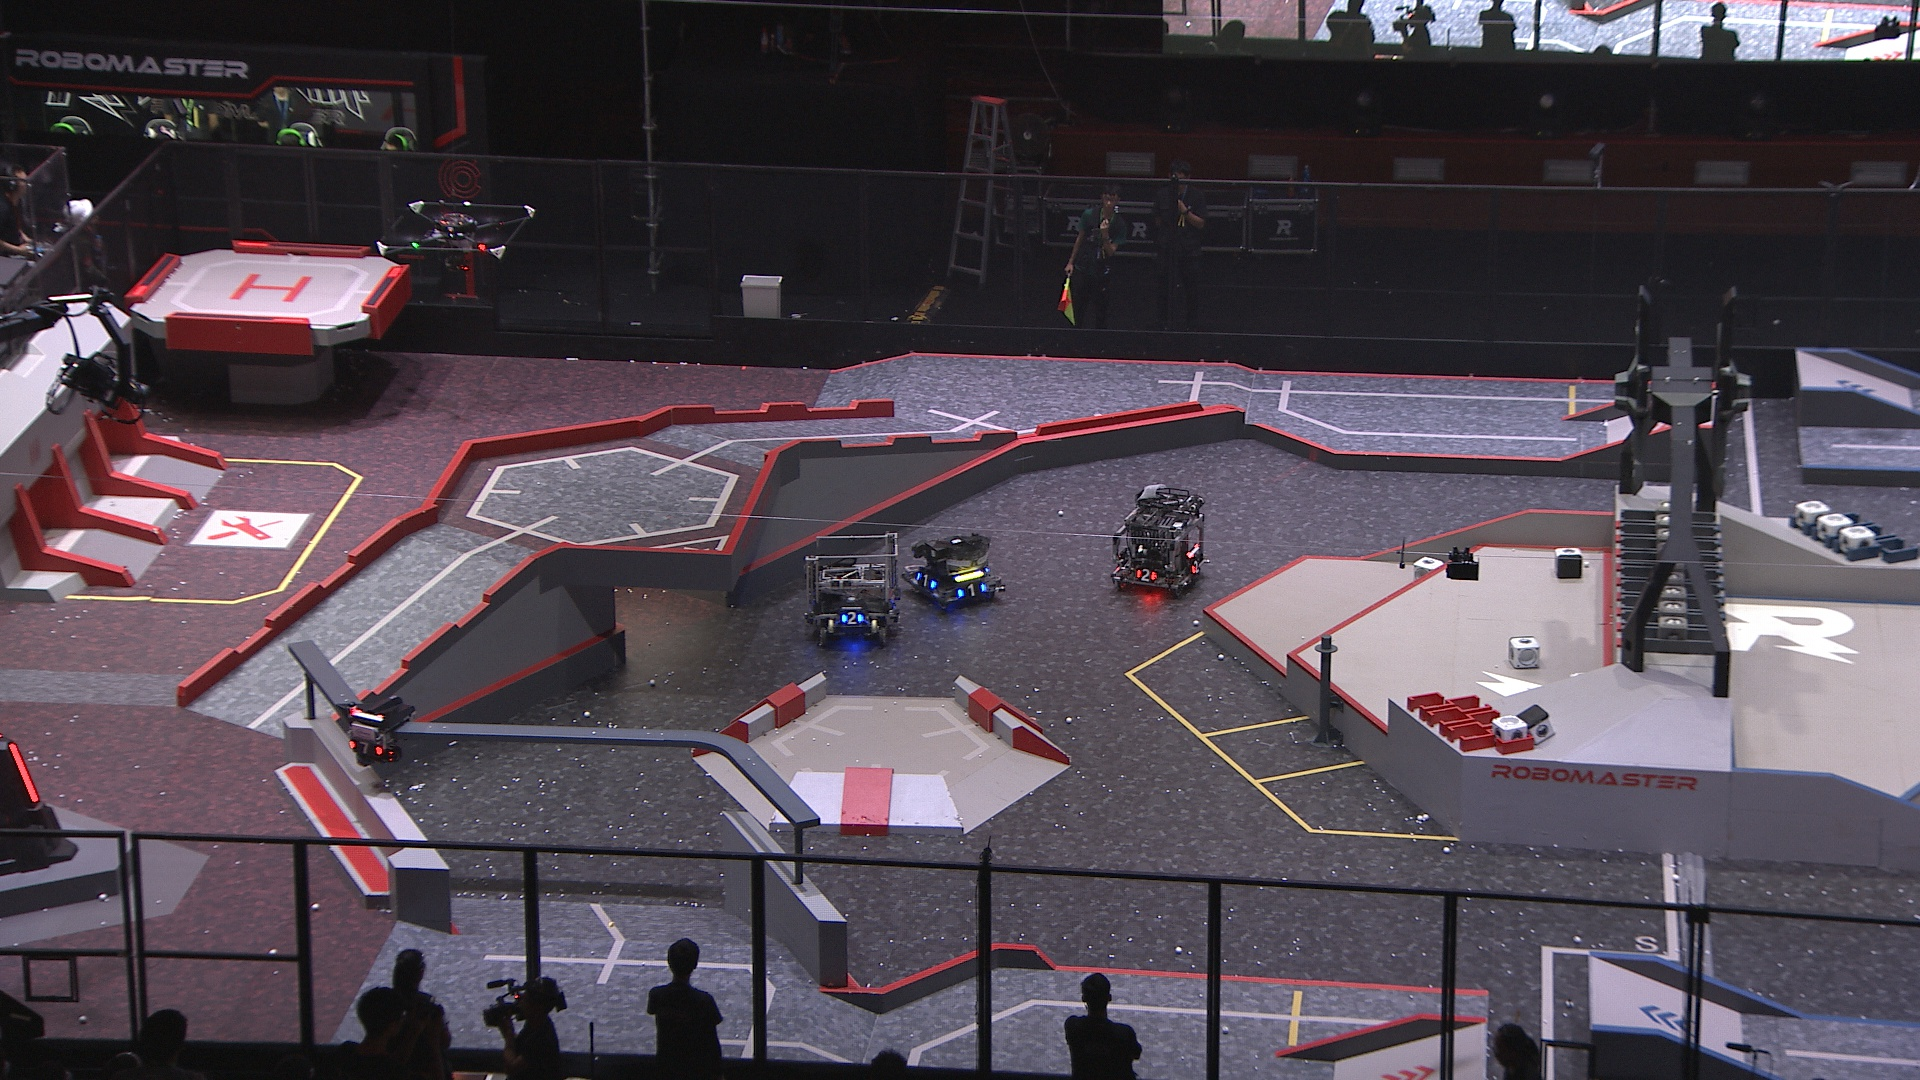armor: (11, 742, 40, 804), (348, 738, 385, 757), (913, 570, 938, 589), (956, 584, 986, 600), (837, 609, 865, 626), (1134, 566, 1159, 584), (1187, 560, 1203, 578)
car: (803, 531, 901, 651), (1106, 487, 1205, 603), (897, 531, 1005, 616)
watcher: (338, 692, 415, 767)
